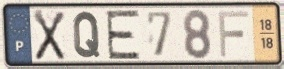7: (146, 10, 174, 59)
8: (181, 8, 213, 61)
E: (104, 8, 142, 61)
F: (216, 9, 250, 59)
Q: (71, 10, 102, 60)
X: (32, 8, 66, 62)
